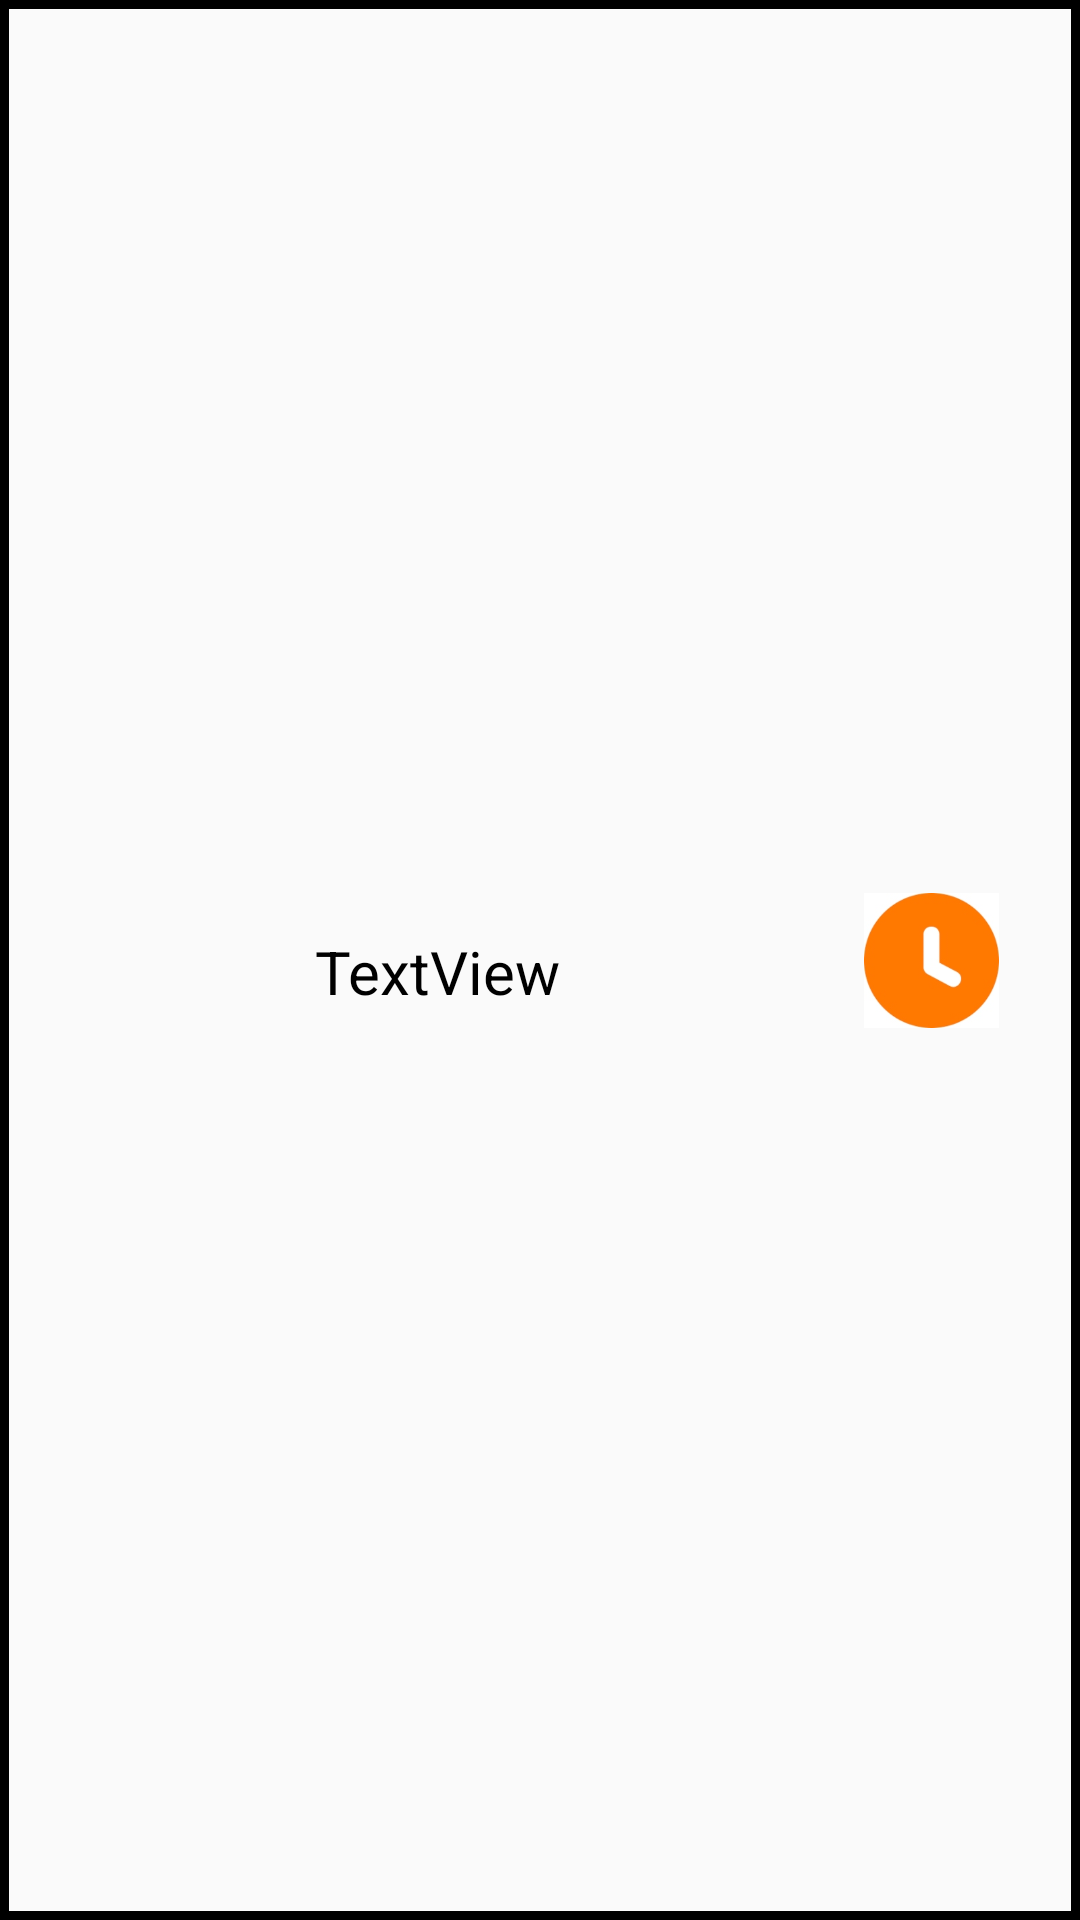

Locate icon controls on the screen. Image size 1080 x 1920, boxes as [x1,y1,x2,y2].
pendding: [864,893,999,1028]
